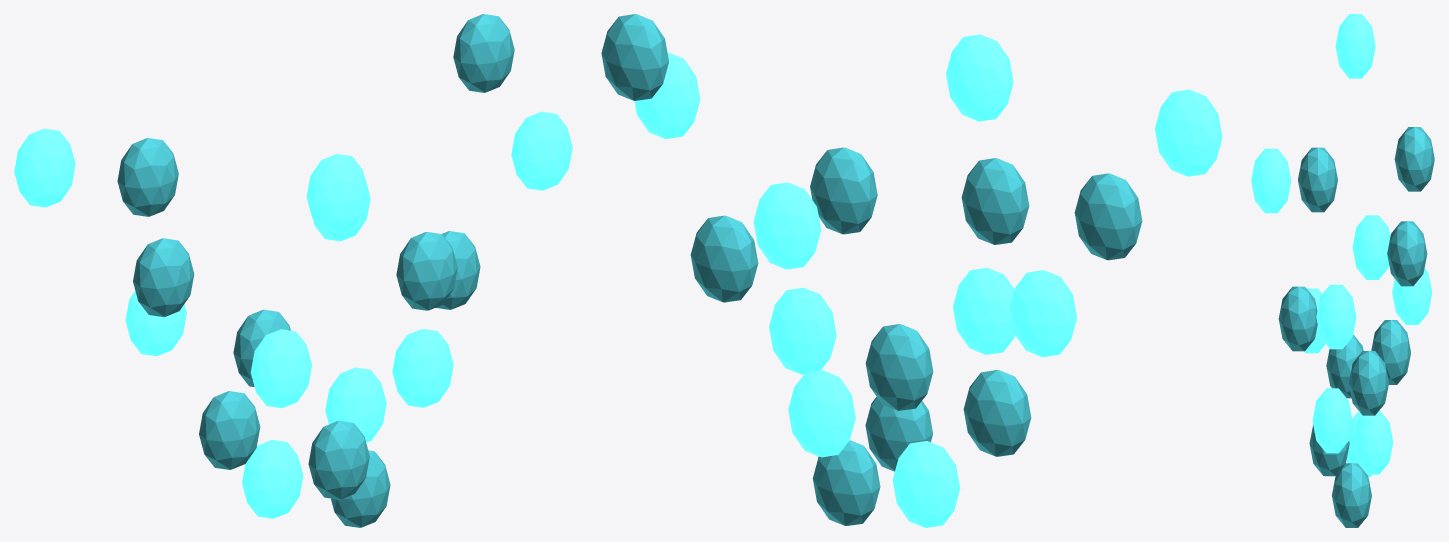
Rendered from swarm_v8.glb.
The picture shows the model from 3 angles, left to right: view 1: azimuth 30°, elevation 25°; view 2: azimuth 150°, elevation 25°; view 3: azimuth 270°, elevation 25°; orthographic projection. The views are drawn at different scales.
Parts seen in each view (by area): view 1: WISP_SWARM_EMISSIVE.002, WISP_SWARM_EMISSIVE.006, WISP_SWARM_ACCENT.001, WISP_SWARM_ACCENT.006, WISP_SWARM_EMISSIVE.007, WISP_SWARM_ACCENT.002, WISP_SWARM_ACCENT.005, WISP_SWARM_EMISSIVE.008, WISP_SWARM_EMISSIVE.003, WISP_SWARM_ACCENT.007, WISP_SWARM_ACCENT.008, WISP_SWARM_EMISSIVE (+5 smaller); view 2: WISP_SWARM_ACCENT.004, WISP_SWARM_ACCENT.006, WISP_SWARM_EMISSIVE.005, WISP_SWARM_EMISSIVE.007, WISP_SWARM_EMISSIVE.008, WISP_SWARM_EMISSIVE.001, WISP_SWARM_ACCENT.003, WISP_SWARM_EMISSIVE.004, WISP_SWARM_ACCENT.008, WISP_SWARM_EMISSIVE, WISP_SWARM_ACCENT.002, WISP_SWARM_ACCENT.007 (+6 smaller); view 3: WISP_SWARM_EMISSIVE.006, WISP_SWARM_EMISSIVE.002, WISP_SWARM_EMISSIVE.007, WISP_SWARM_ACCENT.008, WISP_SWARM_ACCENT.006, WISP_SWARM_EMISSIVE.008, WISP_SWARM_ACCENT.007, WISP_SWARM_ACCENT.004, WISP_SWARM_ACCENT, WISP_SWARM_ACCENT.005, WISP_SWARM_EMISSIVE.001, WISP_SWARM_EMISSIVE.004 (+6 smaller).
Boxes of the visible parts, x1,y1,x2,y2 form: WISP_SWARM_EMISSIVE.002: [392, 329, 453, 407]; WISP_SWARM_EMISSIVE.006: [511, 111, 572, 190]; WISP_SWARM_ACCENT.001: [308, 421, 369, 499]; WISP_SWARM_ACCENT.006: [133, 238, 194, 317]; WISP_SWARM_EMISSIVE.007: [306, 154, 367, 232]; WISP_SWARM_ACCENT.002: [199, 391, 260, 469]; WISP_SWARM_ACCENT.005: [396, 232, 457, 310]; WISP_SWARM_EMISSIVE.008: [14, 128, 75, 207]; WISP_SWARM_EMISSIVE.003: [250, 329, 311, 408]; WISP_SWARM_ACCENT.007: [117, 138, 178, 216]; WISP_SWARM_ACCENT.008: [453, 14, 514, 92]; WISP_SWARM_EMISSIVE: [242, 440, 303, 518]; WISP_SWARM_ACCENT.004: [690, 215, 758, 302]; WISP_SWARM_ACCENT.006: [1074, 173, 1142, 260]; WISP_SWARM_EMISSIVE.005: [753, 182, 821, 269]; WISP_SWARM_EMISSIVE.007: [946, 34, 1013, 121]; WISP_SWARM_EMISSIVE.008: [1155, 89, 1222, 176]; WISP_SWARM_EMISSIVE.001: [788, 370, 855, 457]; WISP_SWARM_ACCENT.003: [865, 324, 933, 410]; WISP_SWARM_EMISSIVE.004: [1009, 270, 1076, 357]; WISP_SWARM_ACCENT.008: [601, 14, 668, 100]; WISP_SWARM_EMISSIVE: [892, 441, 960, 527]; WISP_SWARM_ACCENT.002: [963, 370, 1031, 456]; WISP_SWARM_ACCENT.007: [961, 158, 1029, 244]; WISP_SWARM_EMISSIVE.006: [1316, 284, 1356, 349]; WISP_SWARM_EMISSIVE.002: [1312, 388, 1352, 453]; WISP_SWARM_EMISSIVE.007: [1251, 148, 1291, 213]; WISP_SWARM_ACCENT.008: [1387, 221, 1427, 286]; WISP_SWARM_ACCENT.006: [1298, 147, 1337, 212]; WISP_SWARM_EMISSIVE.008: [1335, 14, 1375, 78]; WISP_SWARM_ACCENT.007: [1394, 127, 1434, 191]; WISP_SWARM_ACCENT.004: [1349, 351, 1388, 415]; WISP_SWARM_ACCENT: [1332, 463, 1371, 527]; WISP_SWARM_ACCENT.005: [1278, 286, 1317, 351]; WISP_SWARM_EMISSIVE.001: [1353, 410, 1393, 474]; WISP_SWARM_EMISSIVE.004: [1352, 215, 1390, 279].
Bounding box in the file's own units: 2.29 × 1.92 × 0.8222.
